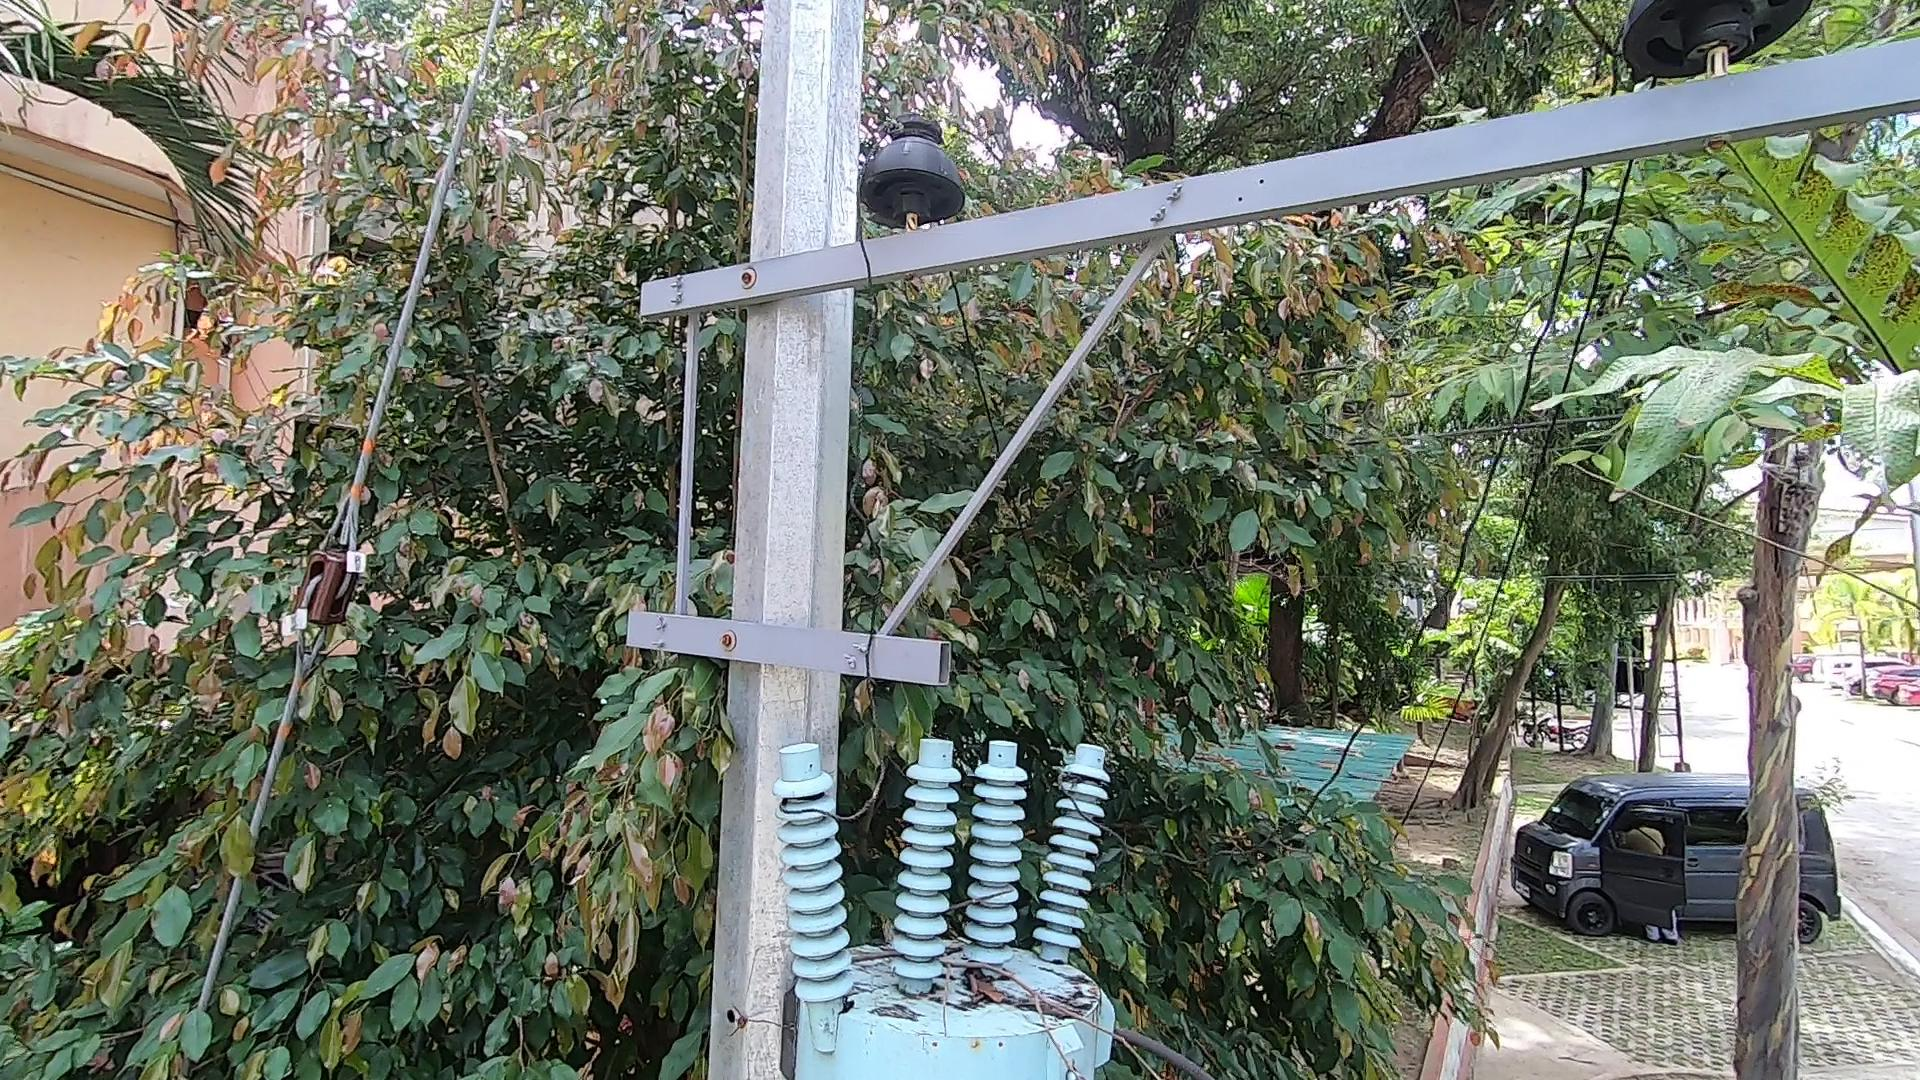leaf: (938, 952, 1013, 1011)
tree branch: (851, 928, 1162, 1080)
